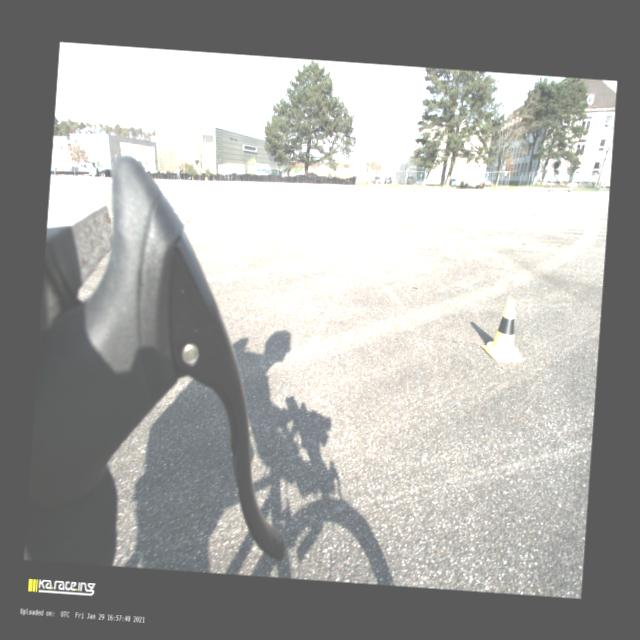yellow_cone: (479, 296, 528, 366)
